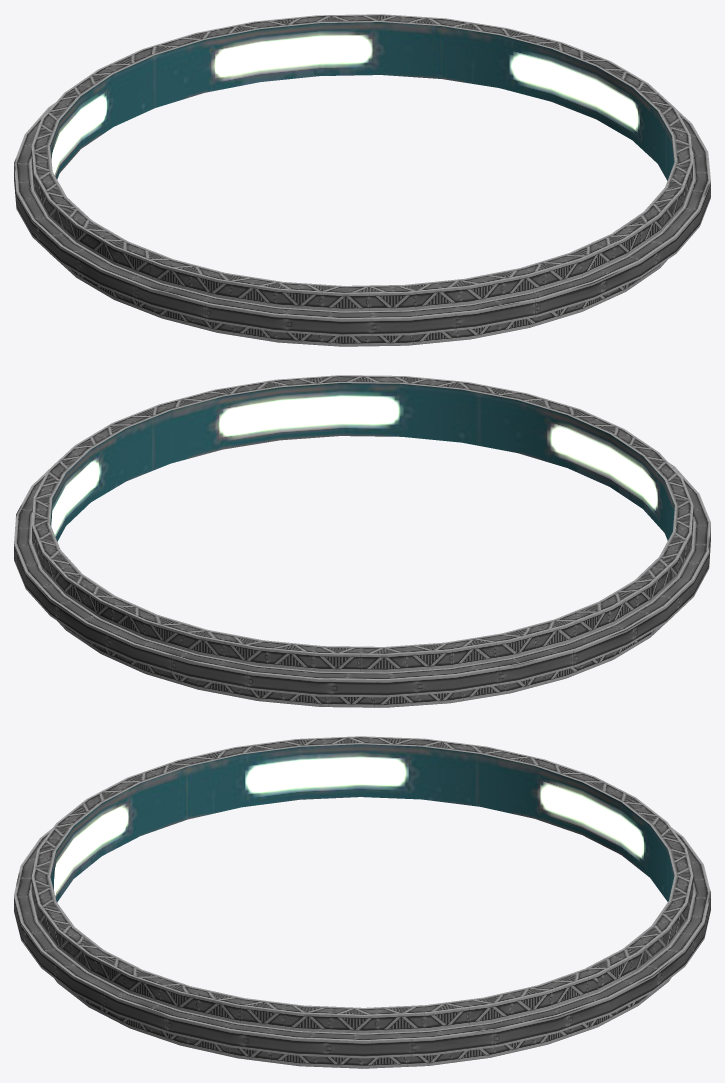
The model's file is ARC1110010.fbx.
3 renders of one model, top to bottom at view 1: azimuth 30°, elevation 25°; view 2: azimuth 150°, elevation 25°; view 3: azimuth 270°, elevation 25°, orthographic.
Visible parts, largest first — view 1: smARC1110010; view 2: smARC1110010; view 3: smARC1110010.
Part boxes in pixels (x1,y1,x2,y2): smARC1110010: (14,14,710,346); smARC1110010: (14,375,710,707); smARC1110010: (14,736,710,1068).
Bounding box in the file's own units: 158 × 13.22 × 158.
1 material, 1 textured.
